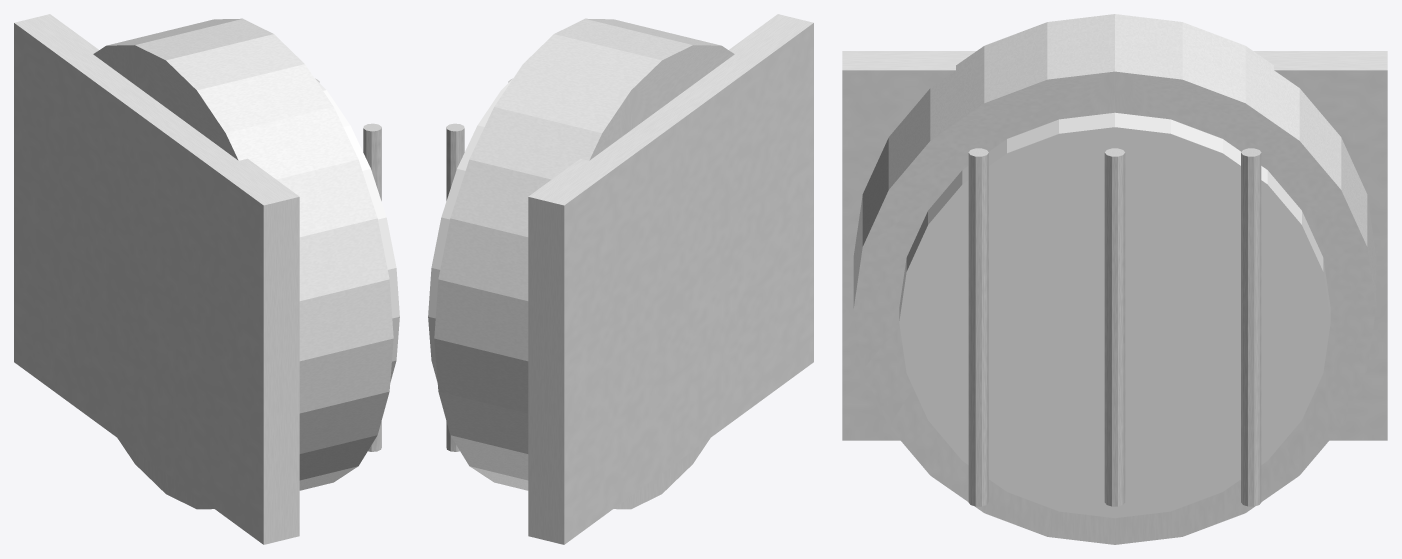
Rendered from marinepierbulkhead.obj.
The picture shows the model from 3 angles, left to right: view 1: azimuth 30°, elevation 25°; view 2: azimuth 150°, elevation 25°; view 3: azimuth 270°, elevation 25°; orthographic projection. The views are drawn at different scales.
Visible parts, largest first — view 1: Base, Metal, Light0, Trim; view 2: Base, Metal, Light0, Trim; view 3: Light0, Metal, Base, Trim.
Part boxes in pixels (<box>): Base: <box>14,14,299,544</box>; Metal: <box>93,18,393,509</box>; Light0: <box>315,79,399,382</box>; Trim: <box>315,78,381,451</box>; Base: <box>528,14,813,544</box>; Metal: <box>434,18,734,509</box>; Light0: <box>428,79,512,382</box>; Trim: <box>446,78,512,451</box>; Light0: <box>899,112,1330,518</box>; Metal: <box>853,14,1376,544</box>; Base: <box>842,51,1387,440</box>; Trim: <box>968,148,1261,506</box>.
Bounding box in the file's own units: 0.1986 × 0.46 × 0.48.
